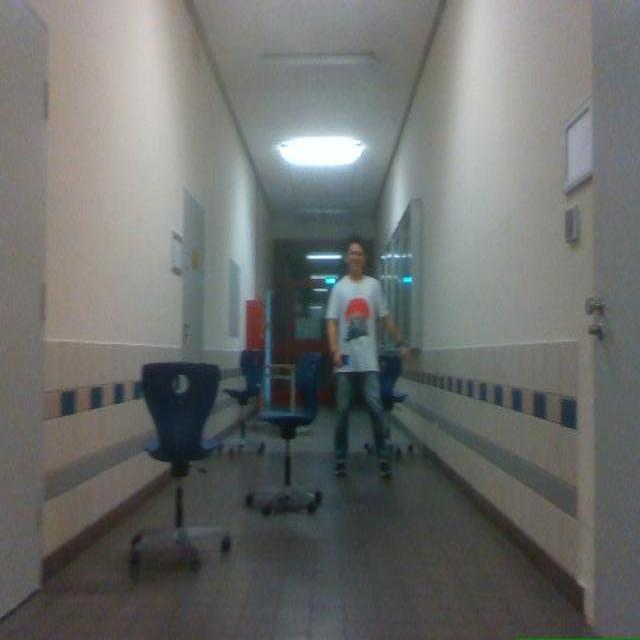humans: (326, 236, 406, 477)
objects: (245, 352, 322, 515), (143, 361, 221, 477), (130, 508, 204, 568), (229, 352, 264, 453), (200, 525, 231, 552), (175, 481, 182, 506)
